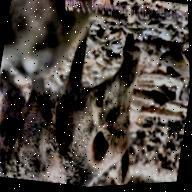boar: (0, 25, 180, 192)
